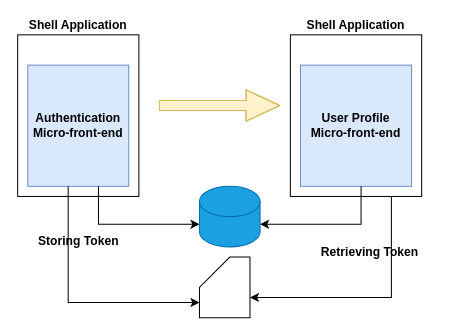
Some shapes in this 449 by 335 pixel diagram are drawn without their labels. Each missing label, with the box of its shape:
Cookies: (198, 256, 250, 318)
Web Storage: (198, 185, 260, 247)
